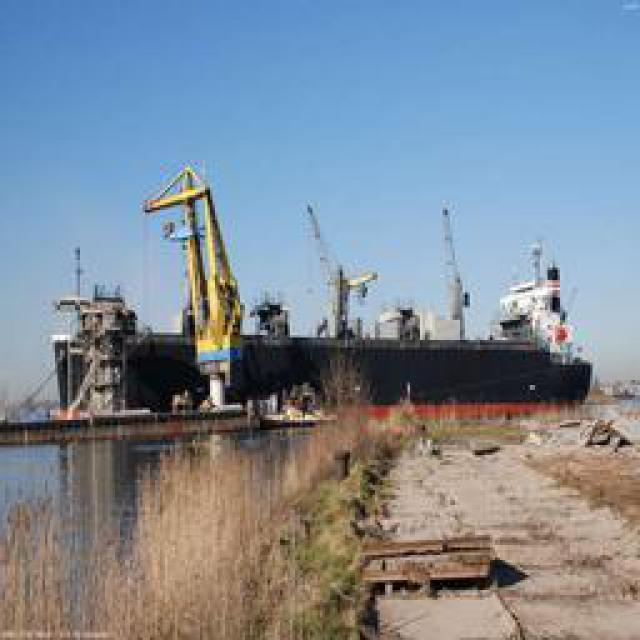Ship: (43, 172, 598, 422)
